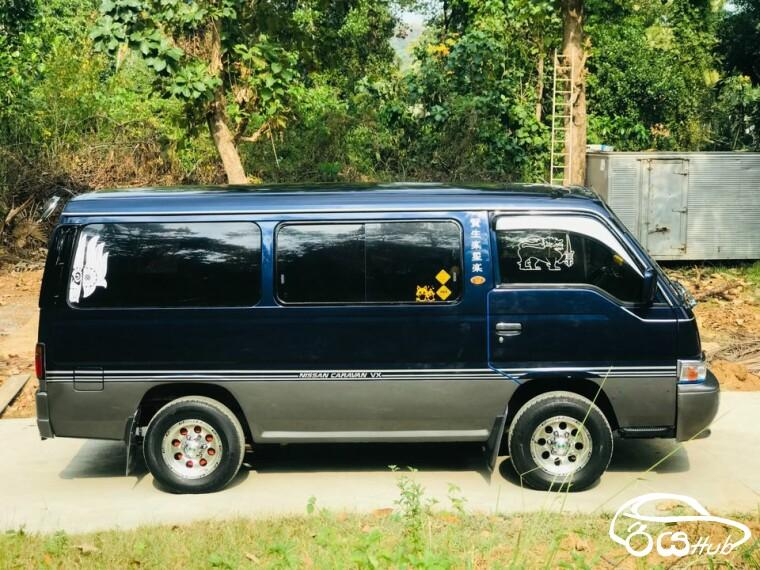van: (34, 182, 722, 495)
